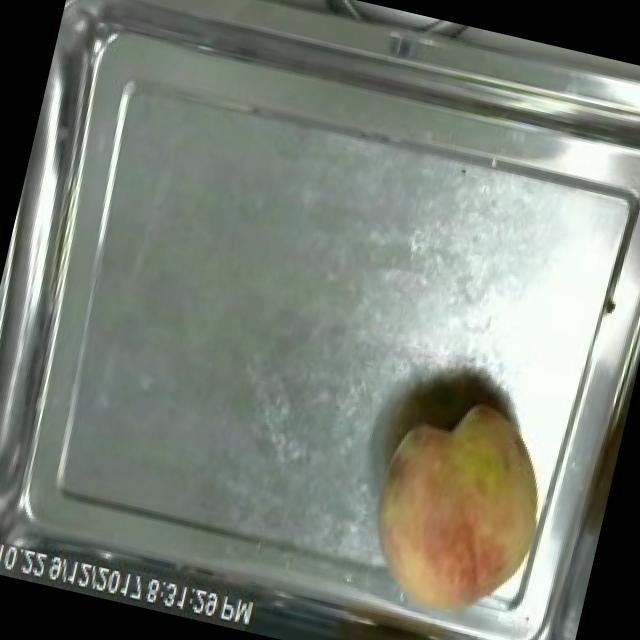Fruit: (343, 378, 574, 640)
